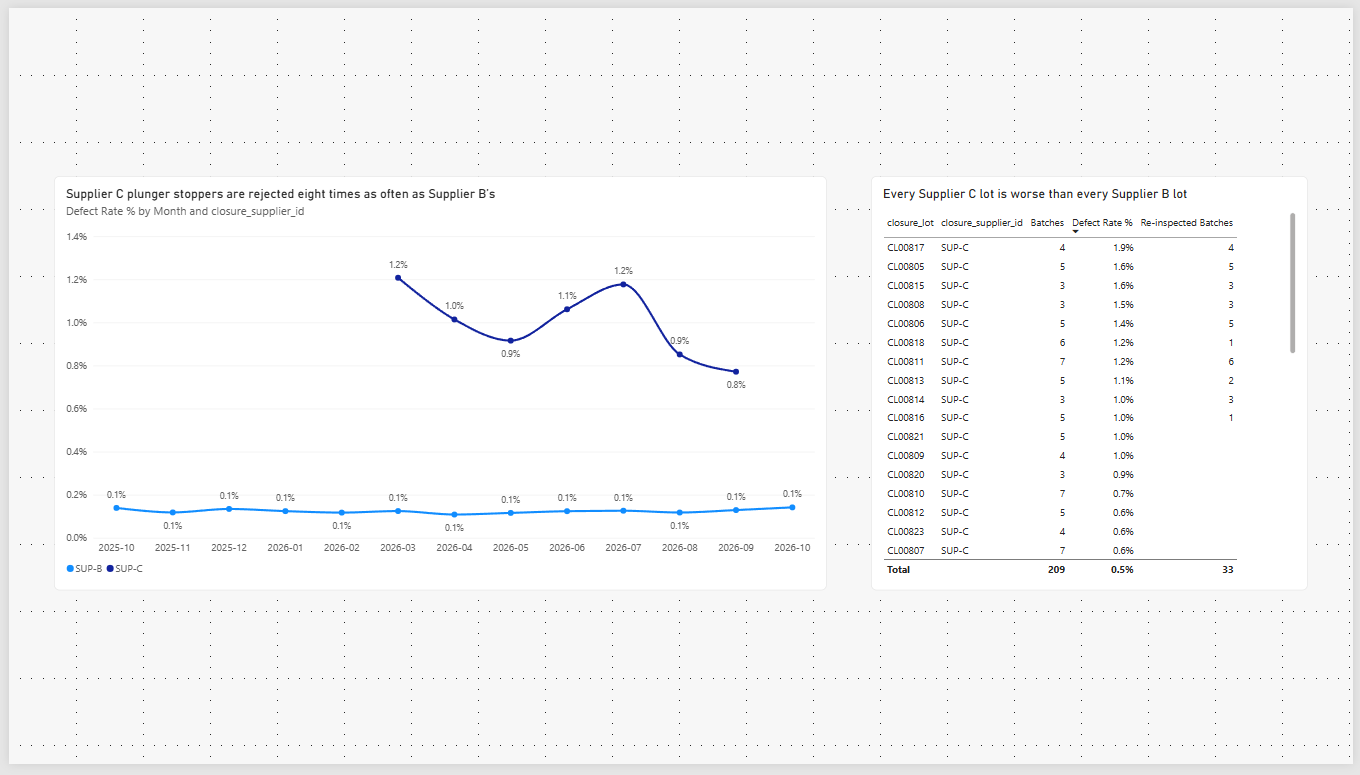

This screenshot's page, from the dashboard's own definition file:
{"tool":"powerbi","page":{"name":"Issue 2","canvas":[1920,1080],"ordinal":5},"visuals":[{"type":"lineChart","title":"Supplier C plunger stoppers are rejected eight times as often as Supplier B’s","fields":{"Category":["DimDate.Month"],"Series":["FactBatch.closure_supplier_id"],"Y":["_Measures.Defect Rate %"]},"box":[64,240,1104,592],"z":0},{"type":"tableEx","title":"Every Supplier C lot is worse than every Supplier B lot","fields":{"Values":["FactBatch.closure_lot","FactBatch.closure_supplier_id","_Measures.Batches","_Measures.Defect Rate %","_Measures.Re-inspected Batches"]},"box":[1232,240,624,592],"z":1}]}

Visuals, with their boxes in screenshot pixels (x1, y1, x2, y2), scaled from the page's 1920x1080 canvas onto the 1360x775 screenshot:
"Supplier C plunger stoppers are rejected eight times as often as Supplier B’s" lineChart: bbox(45, 172, 827, 597)
"Every Supplier C lot is worse than every Supplier B lot" tableEx: bbox(873, 172, 1315, 597)
